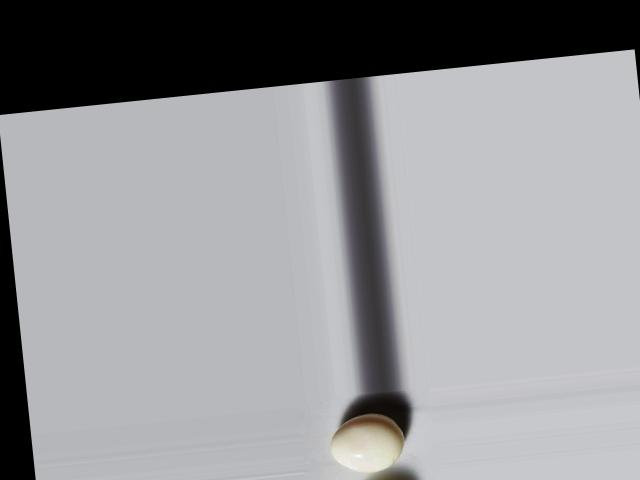egg: (328, 410, 408, 475)
